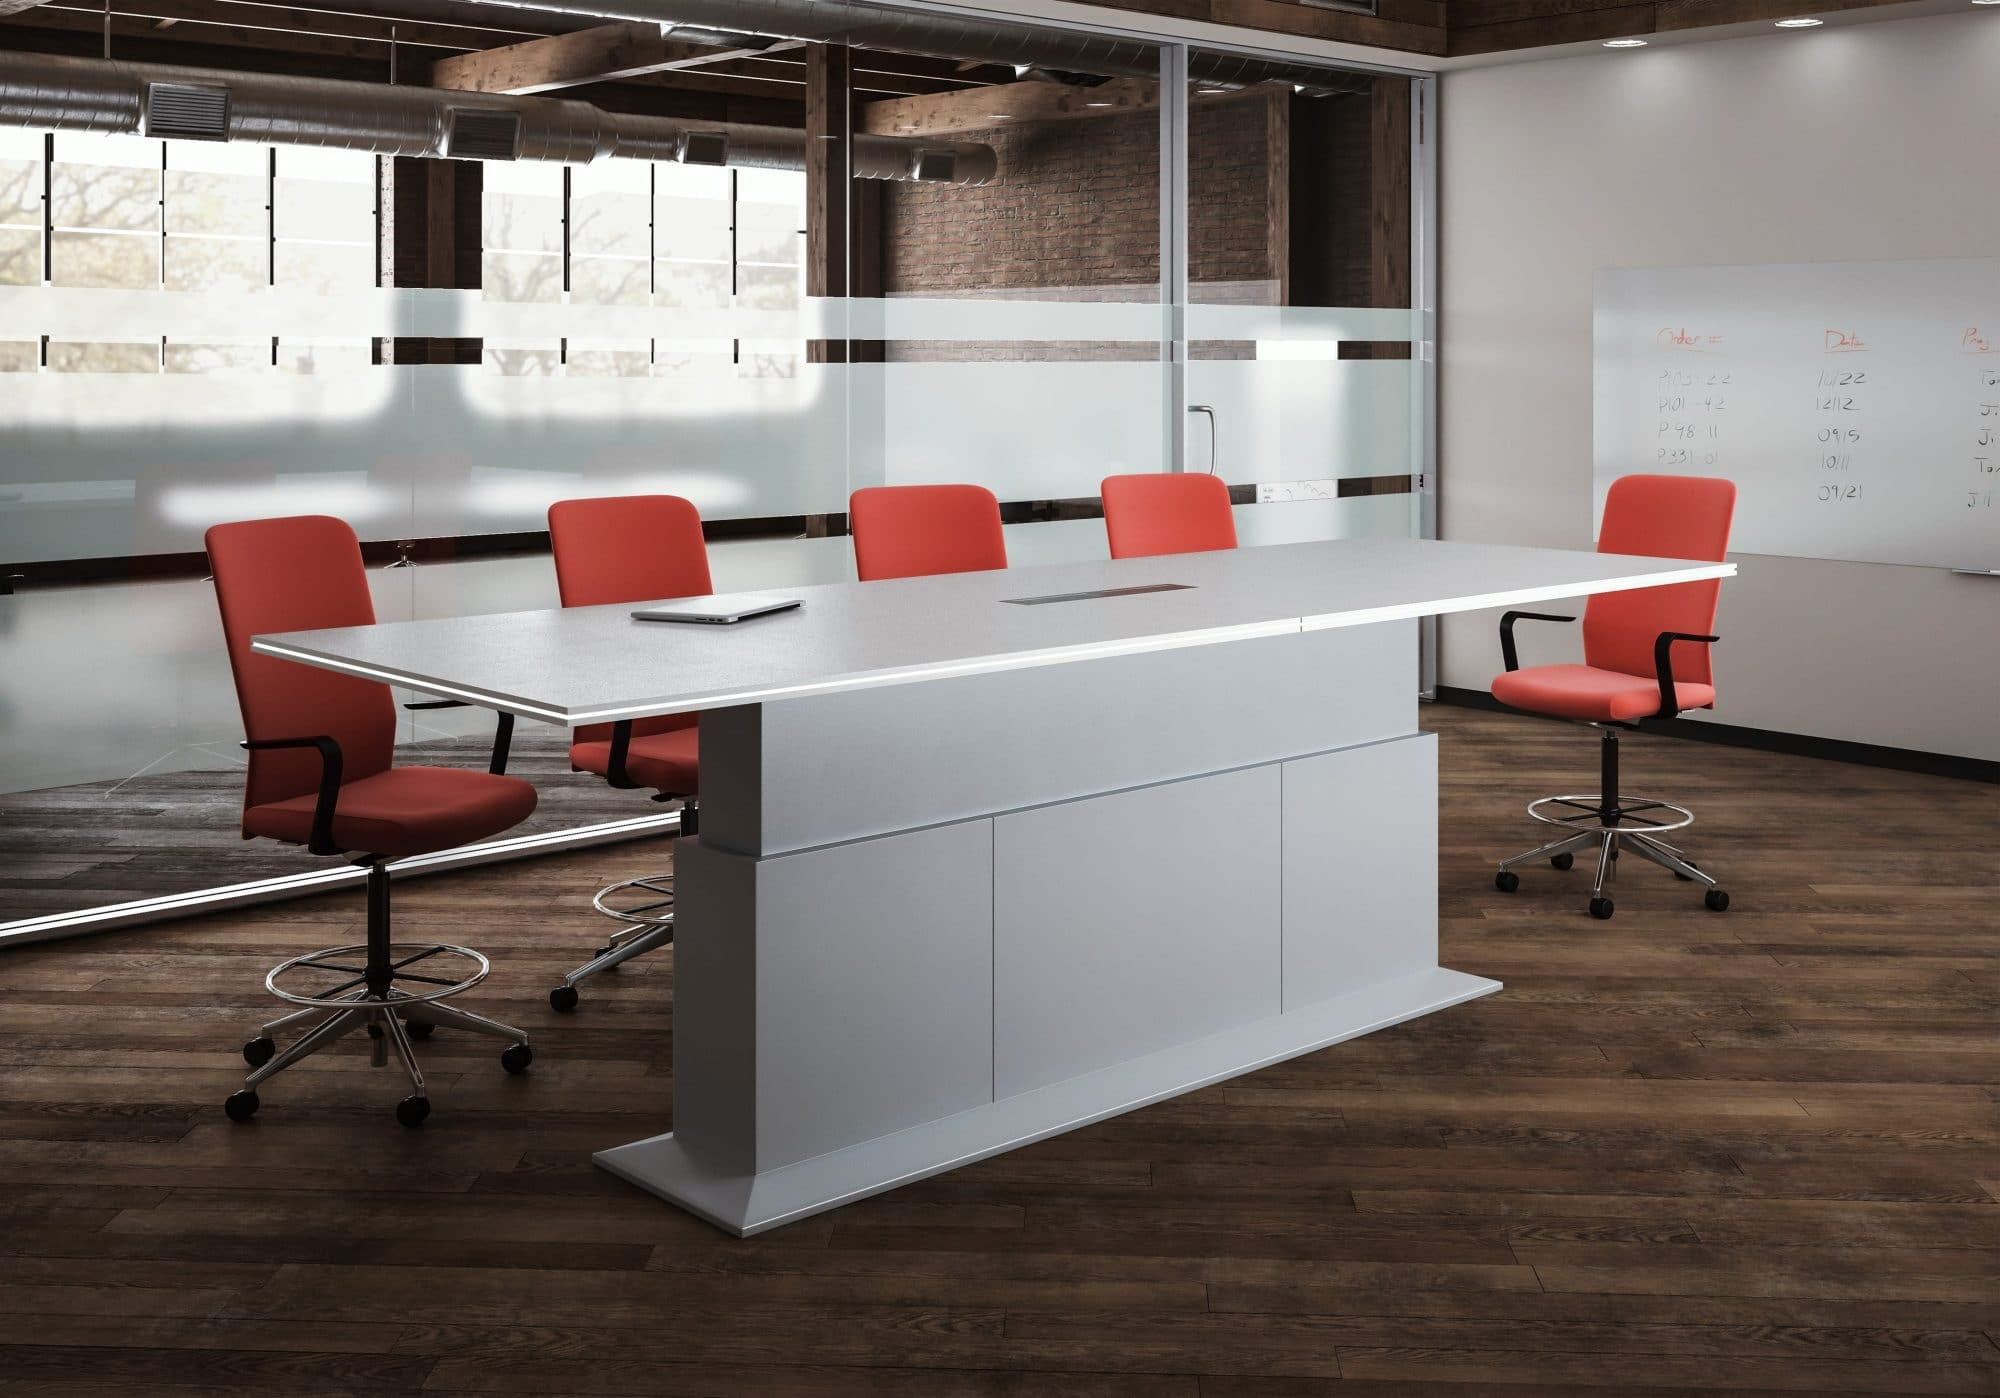conference_table: (253, 536, 1738, 1237)
